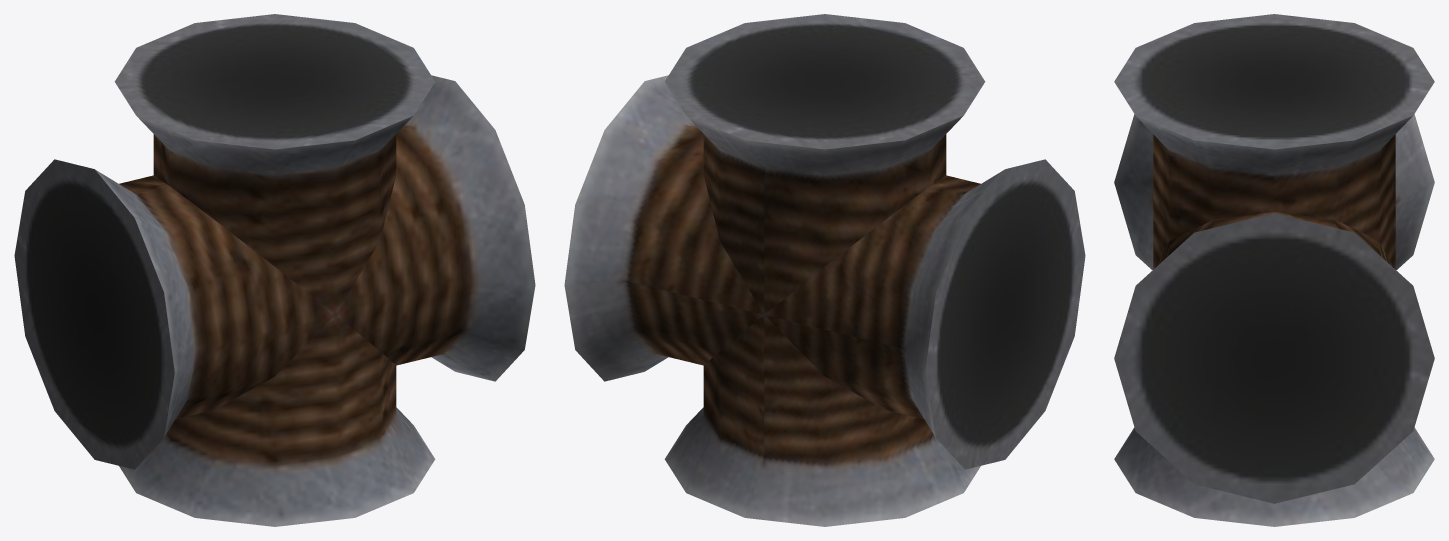
The model's file is port_cross.obj.
3 renders of one model, left to right at view 1: azimuth 30°, elevation 25°; view 2: azimuth 150°, elevation 25°; view 3: azimuth 270°, elevation 25°, orthographic.
Visible parts, largest first — view 1: 12314; view 2: 12314; view 3: 12314.
Boxes of the visible parts, x1,y1,x2,y2 form: 12314: [14, 14, 535, 526]; 12314: [564, 14, 1085, 526]; 12314: [1114, 14, 1434, 526].
Bounding box in the file's own units: 25.92 × 25.92 × 19.96.
Materials: 1 (1 with a texture image).
